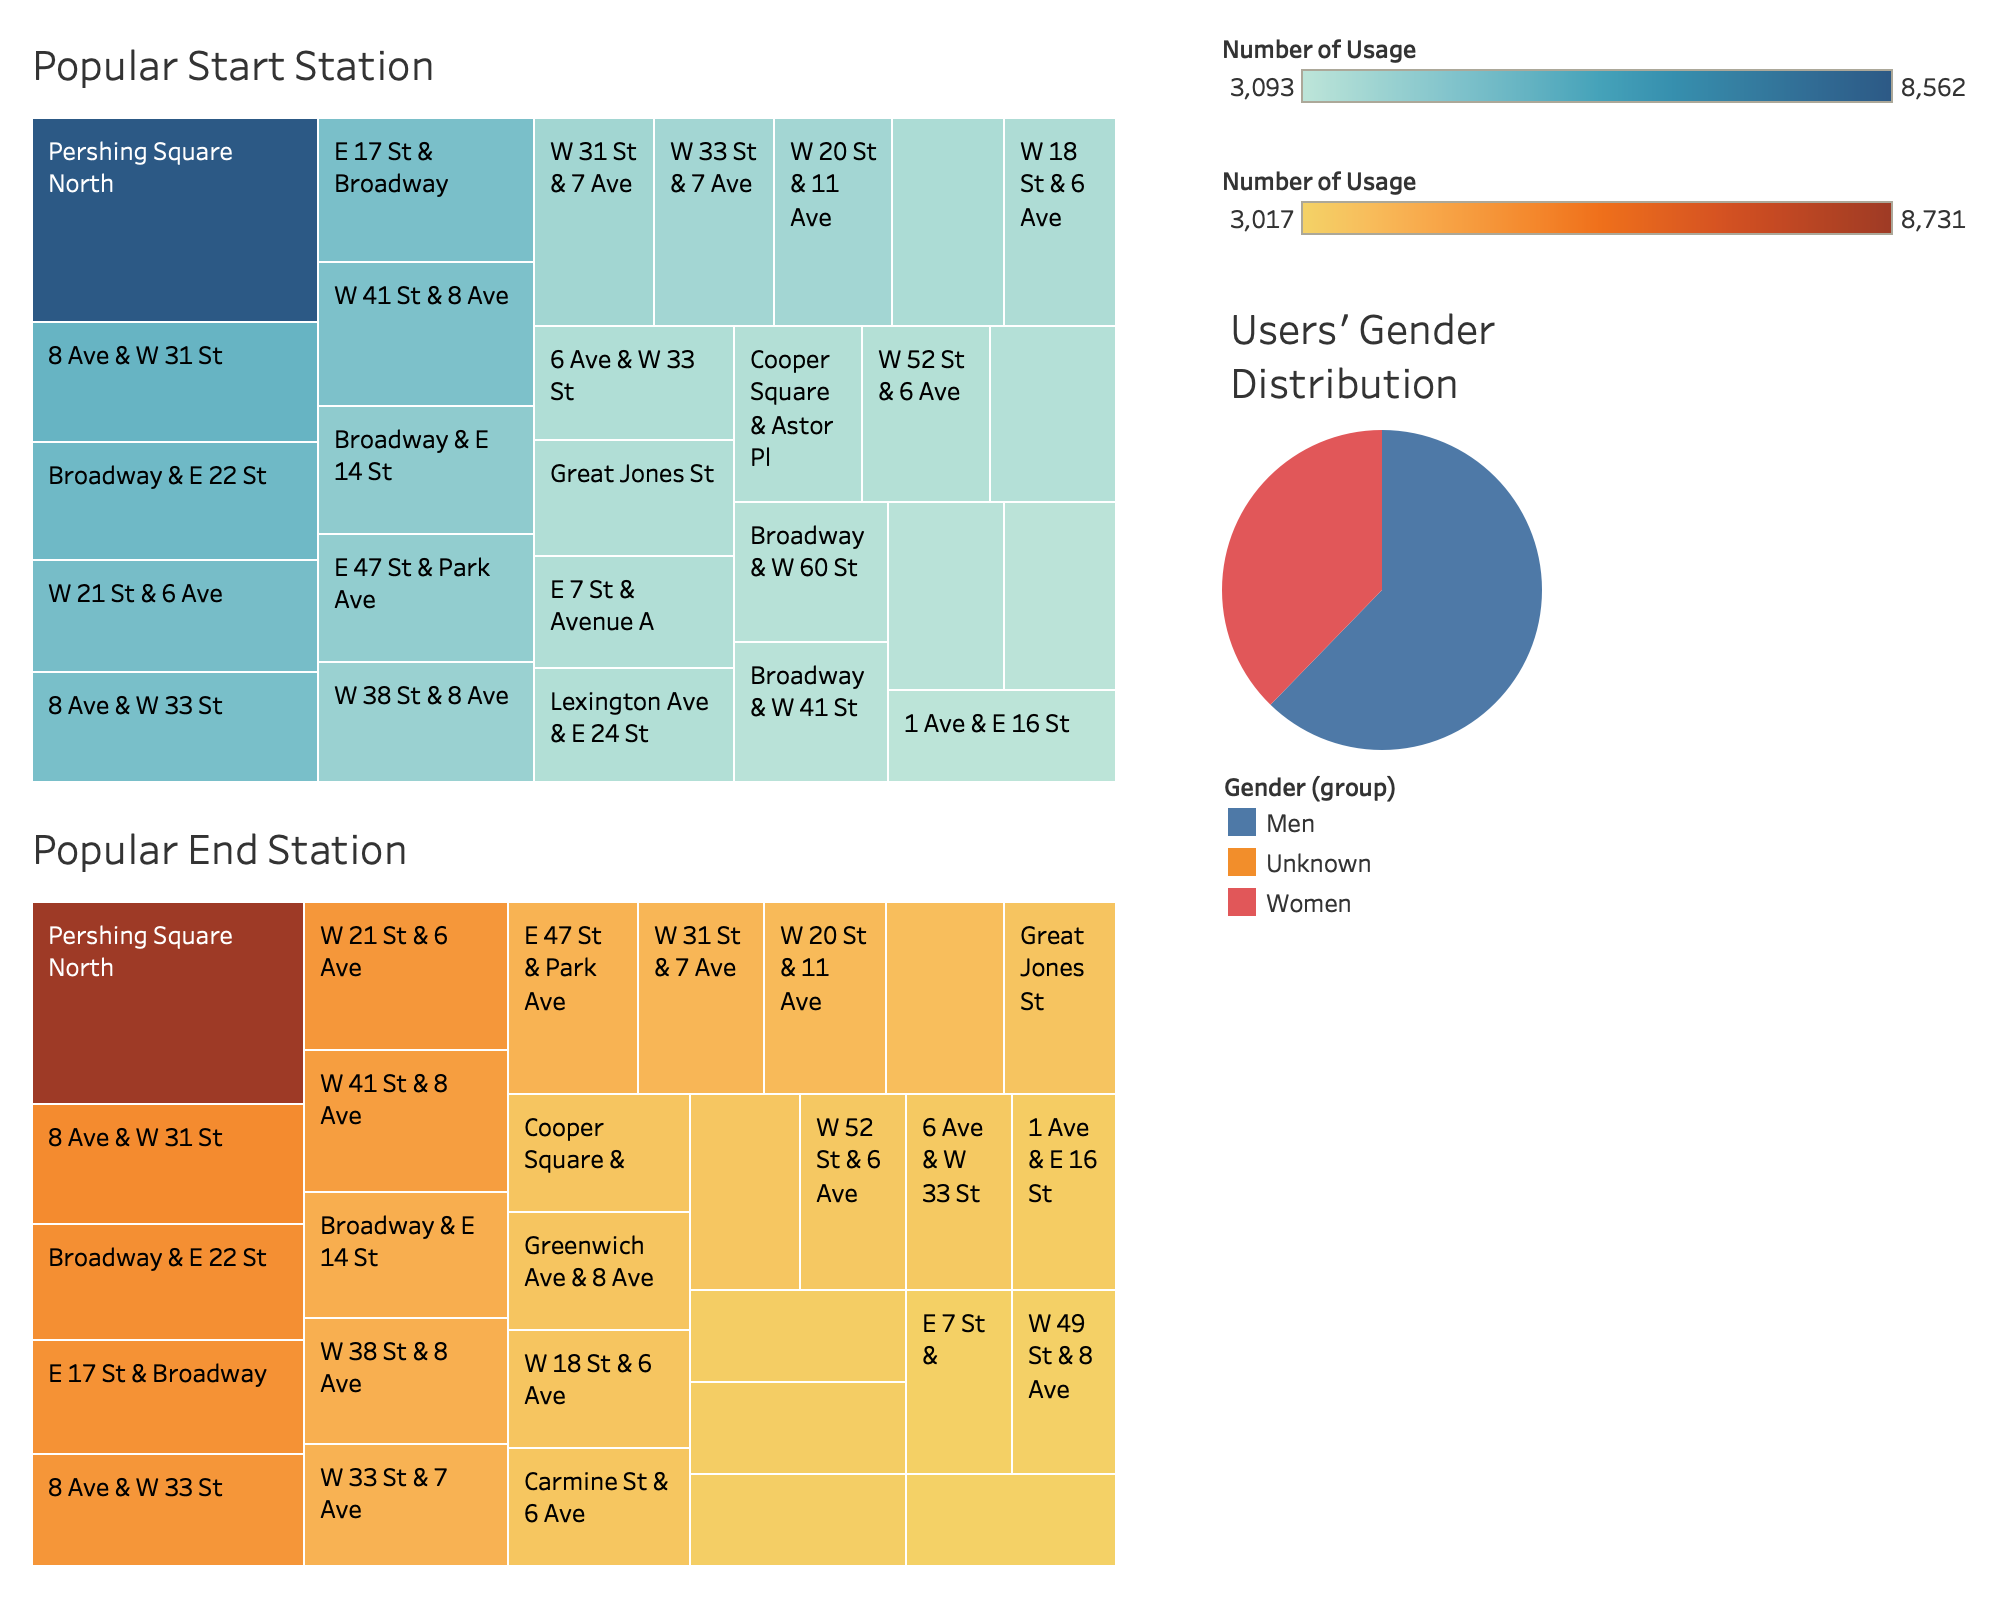

This screenshot's page, from the dashboard's own definition file:
{"tool":"tableau","page":{"name":"Dashboard 1","canvas":[1000,800],"ordinal":0},"visuals":[{"type":"worksheet","title":"Sheet 2","mark":"Automatic","box":[8,8,599,392]},{"type":"legend","title":"Sheet 2","param":"[federated.1xfpp3n0n9civ91e9fzj50poh4nn].[sum:gender:qk]","box":[607,8,385,65]},{"type":"legend","title":"Sheet 1","param":"[federated.1xfpp3n0n9civ91e9fzj50poh4nn].[sum:Number of Records:qk]","box":[607,73,385,65]},{"type":"worksheet","title":"Sheet 3","mark":"Pie","box":[607,138,385,239]},{"type":"legend","title":"Sheet 3","param":"[federated.1xfpp3n0n9civ91e9fzj50poh4nn].[Gender (group)]","box":[607,377,385,86]},{"type":"worksheet","title":"Sheet 1","mark":"Automatic","box":[8,400,599,392]}]}

Visuals, with their boxes in screenshot pixels (x1, y1, x2, y2), scaled from the page's 1000x800 canvas onto the 2000x1600 screenshot:
"Sheet 2" worksheet: detection(16, 16, 1214, 800)
"Sheet 2" legend: detection(1214, 16, 1984, 146)
"Sheet 1" legend: detection(1214, 146, 1984, 276)
"Sheet 3" worksheet (Pie marks): detection(1214, 276, 1984, 754)
"Sheet 3" legend: detection(1214, 754, 1984, 926)
"Sheet 1" worksheet: detection(16, 800, 1214, 1584)
